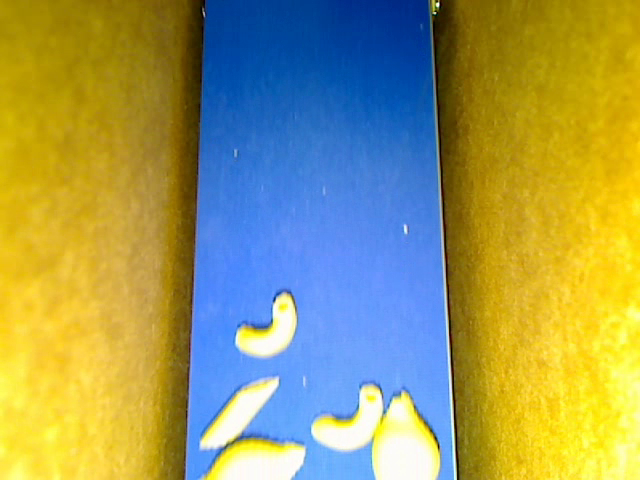elbow: (311, 382, 383, 452), (234, 291, 297, 356)
penne: (197, 375, 280, 448)
shell: (371, 388, 440, 479), (197, 435, 307, 479)
